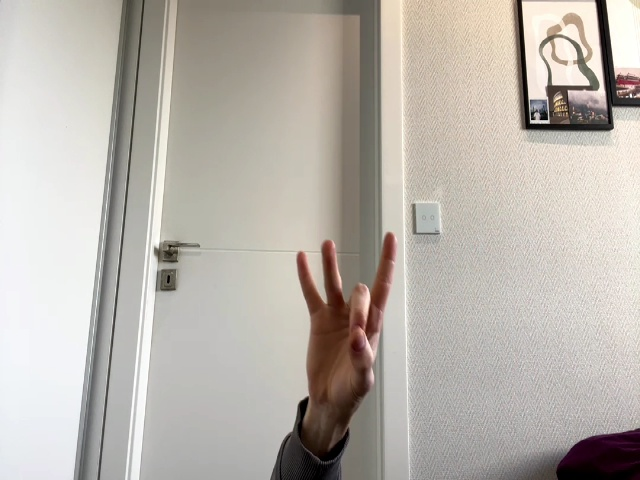G: (298, 232, 397, 406)
